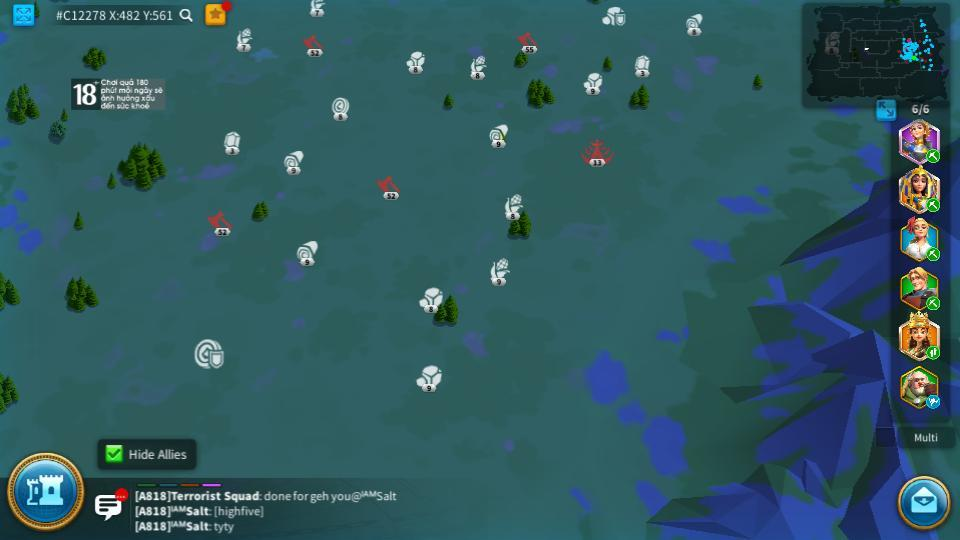gem-z-out: (222, 131, 242, 153), (633, 55, 651, 76)
march_idle: (925, 396, 942, 408)
march_marching: (925, 197, 941, 212), (925, 149, 942, 162), (924, 248, 942, 260), (925, 347, 941, 359), (925, 297, 942, 308)
